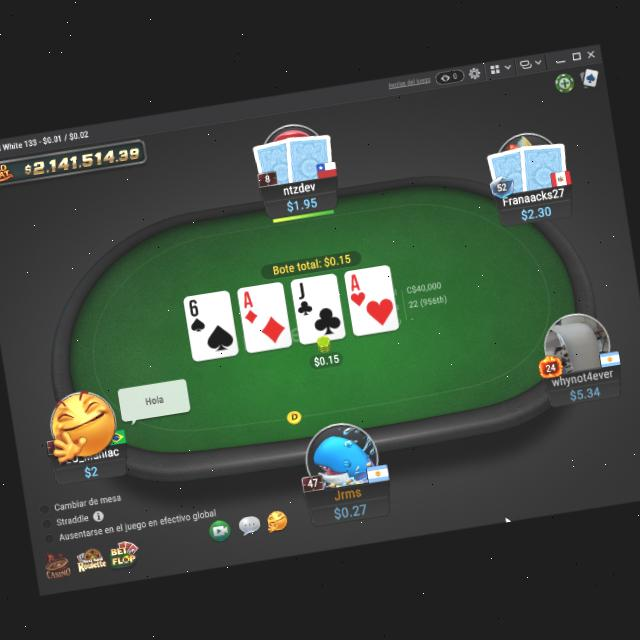6s: (186, 298, 207, 334)
Ad: (238, 288, 262, 326)
Ah: (346, 272, 368, 308)
Jc: (292, 279, 315, 318)
bet_text: (312, 350, 342, 368)
card_back: (280, 127, 339, 186), (514, 137, 573, 196), (484, 142, 536, 198), (250, 135, 301, 189)
dealer: (282, 406, 304, 427)
pot_text: (271, 252, 353, 278)
stack_text: (330, 499, 370, 522), (285, 194, 320, 213), (567, 383, 602, 402), (518, 204, 554, 222), (83, 462, 100, 478)
